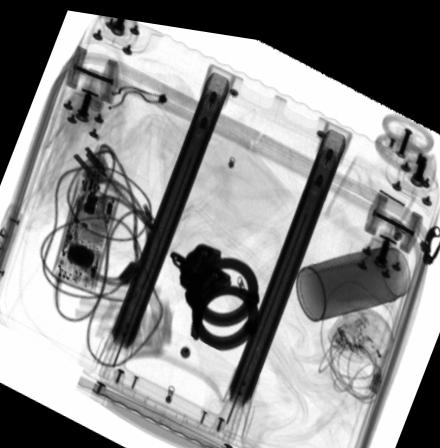HandCuffs: (167, 236, 260, 345)
